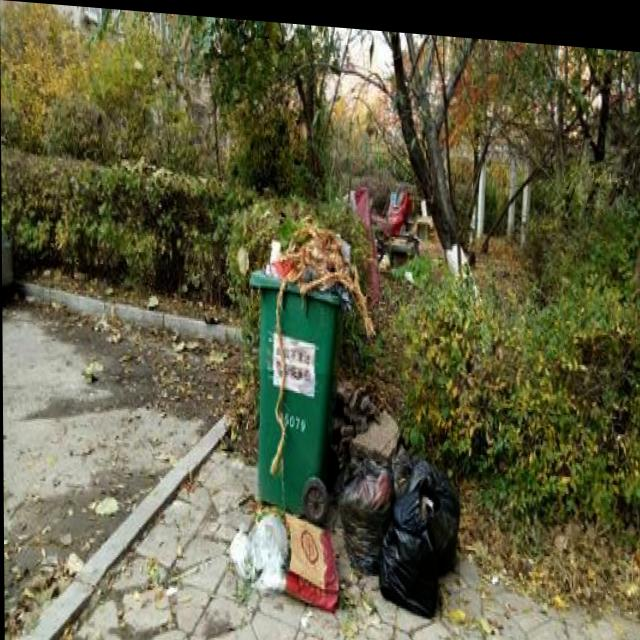garbage: (224, 362, 459, 611)
overflow: (249, 212, 370, 508)
